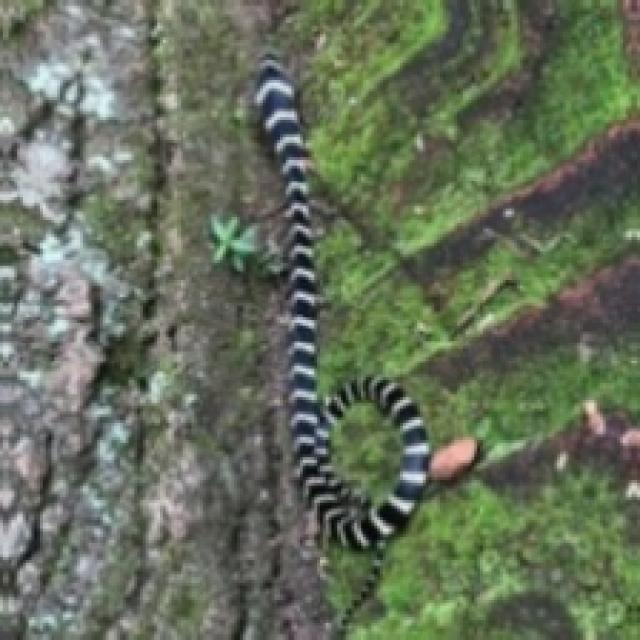king cobra: (254, 57, 429, 546), (326, 400, 400, 503)
